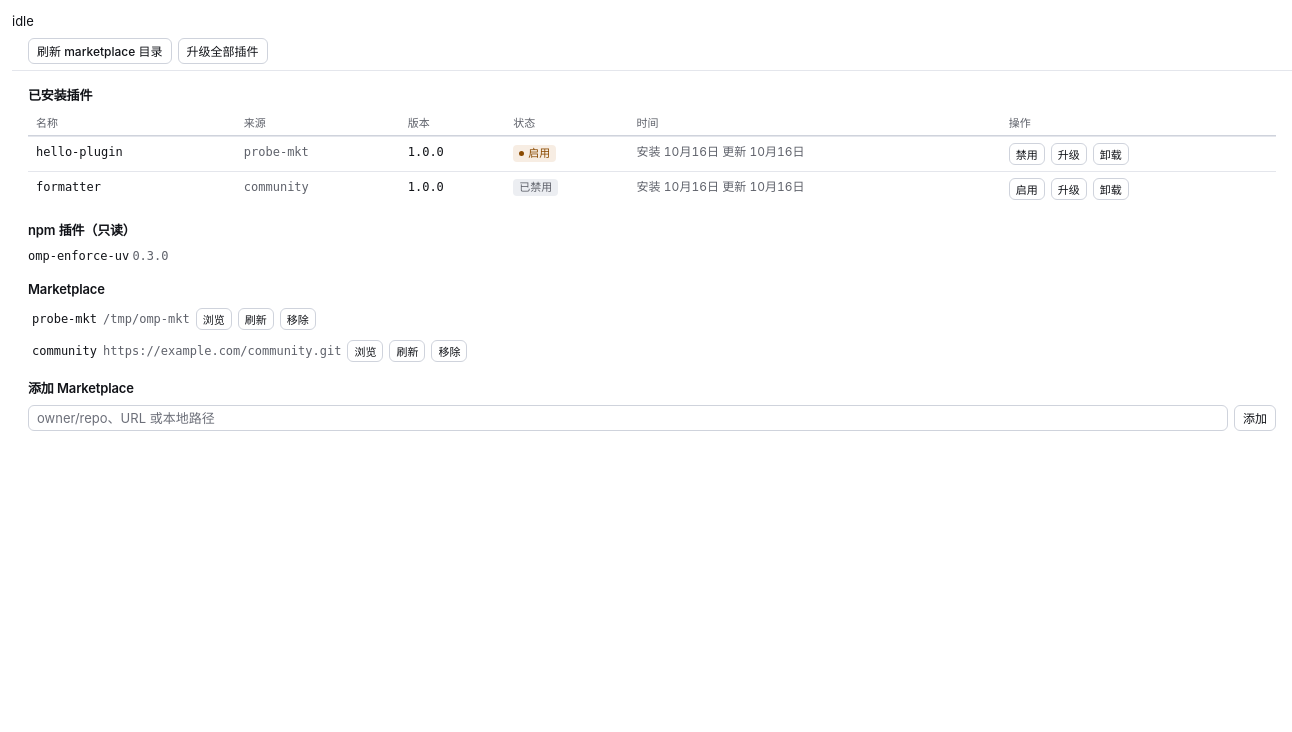
Test: PluginsPanel（有状态 mock） › 升级全部展示 changes 汇总；再次升级报已是最新
Click the button "升级全部插件".
click(222, 50)  # box [178, 38, 268, 64]
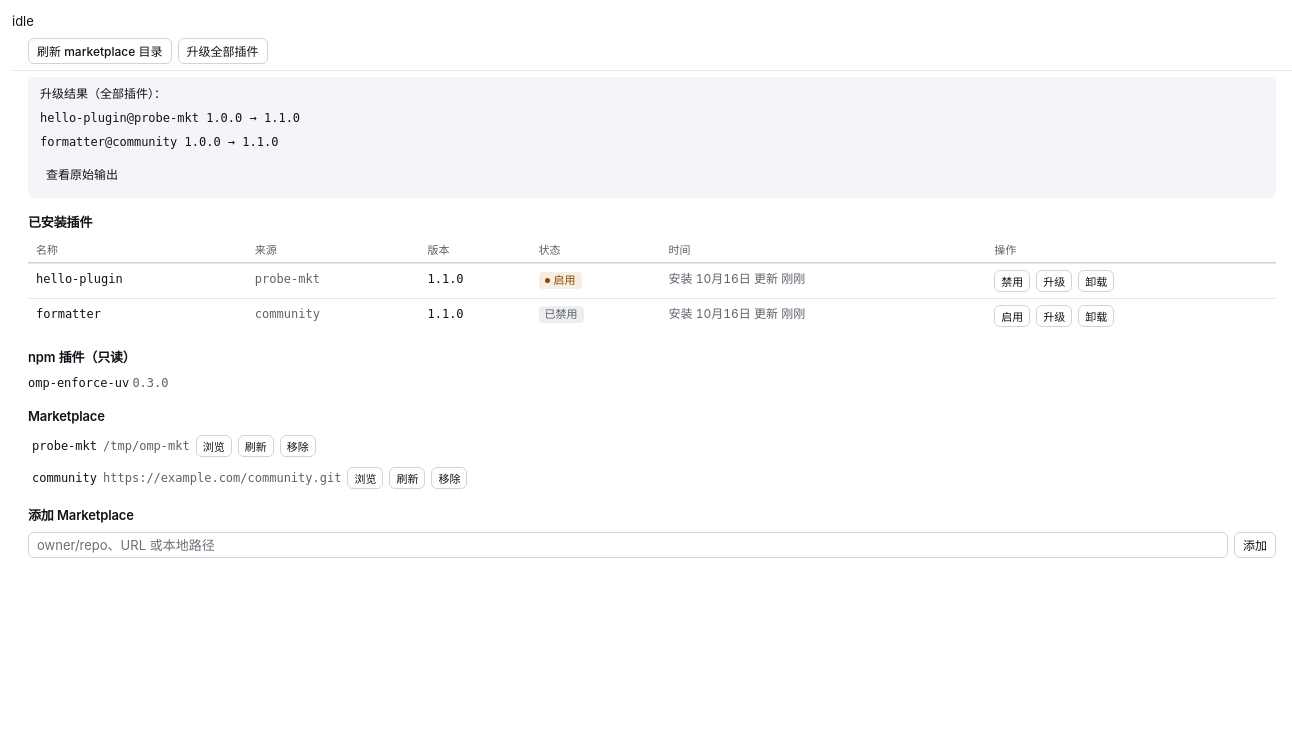
Check: the list item "hello-plugin@probe-mkt 1.0.0 → 1.1.0" is shown, box [40, 110, 300, 124]
Check: the list item "formatter@community 1.0.0 → 1.1.0" is shown, box [40, 134, 278, 148]
Note: 原始输出始终可查看。
Click the button "查看原始输出".
click(82, 174)  # box [40, 160, 1264, 186]
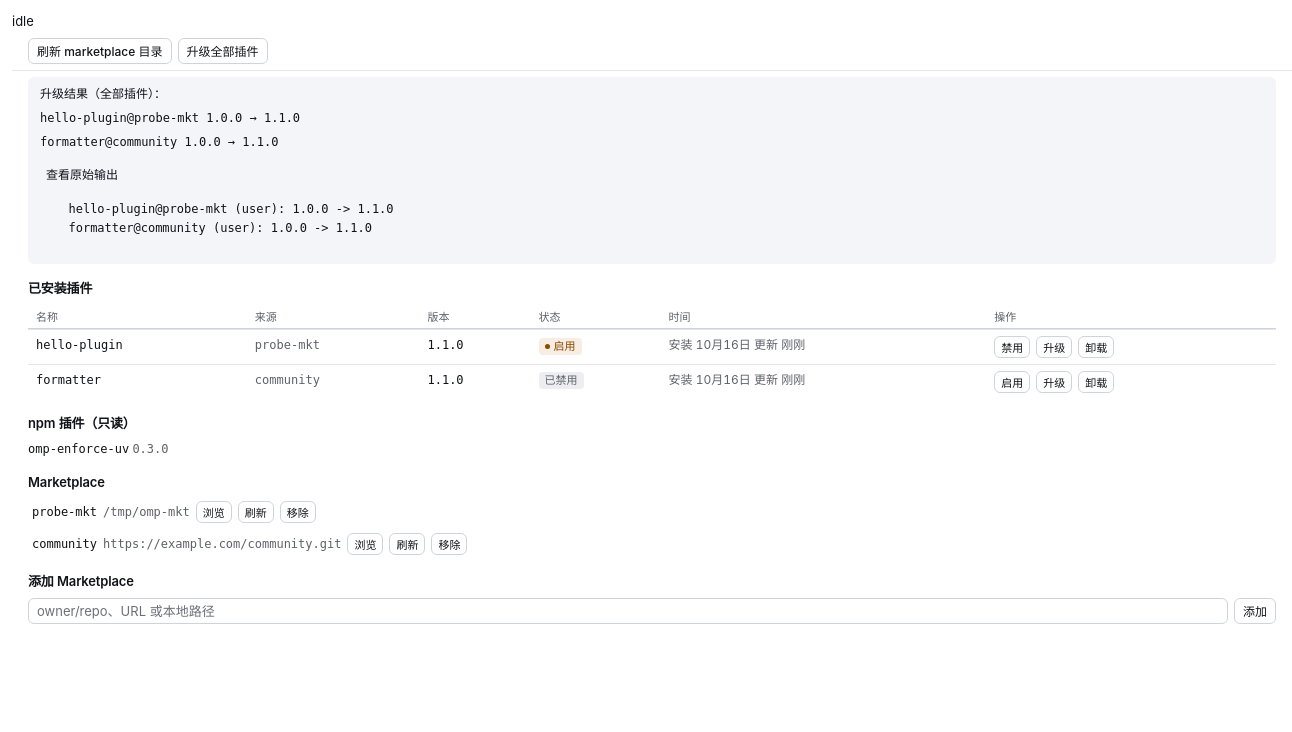
Check: the text "1.0.0 -> 1.1.0" is shown, box [54, 202, 394, 235]
Click the button "升级全部插件".
click(222, 50)  # box [178, 38, 268, 64]
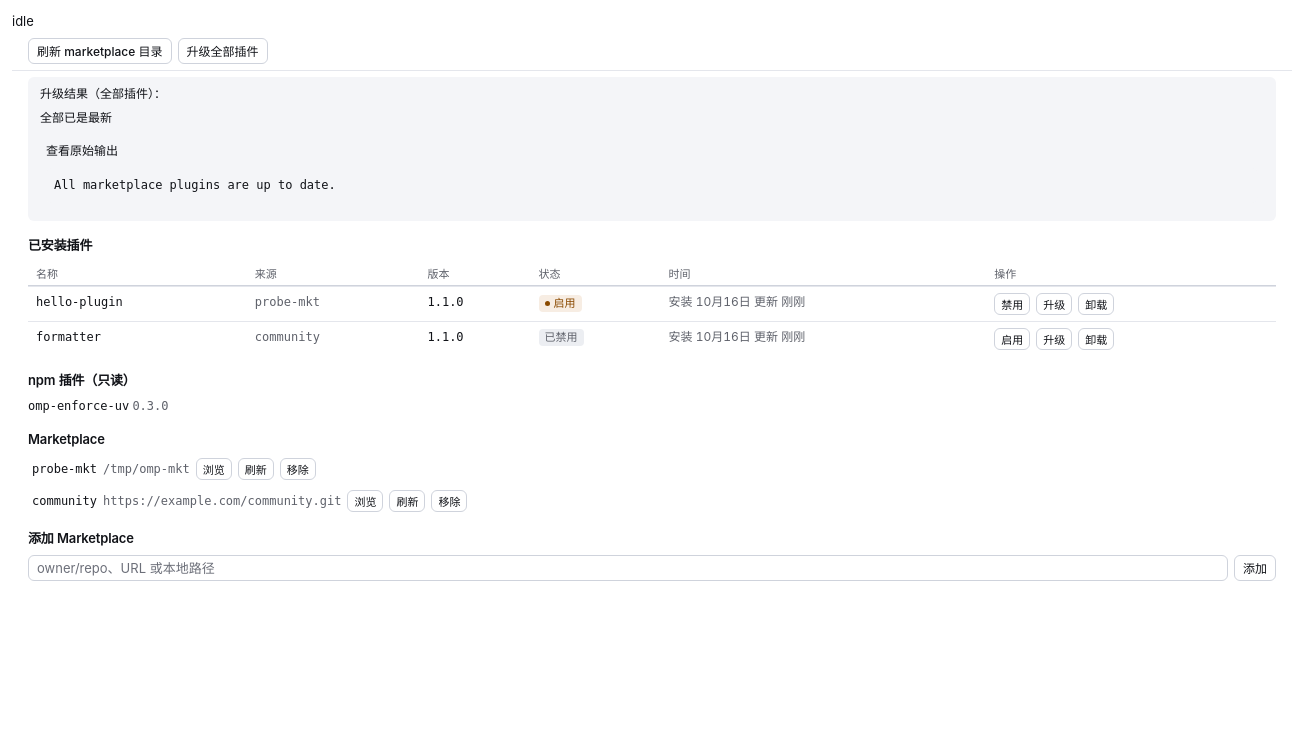
Check: the text "全部已是最新" is shown, box [40, 110, 112, 124]
